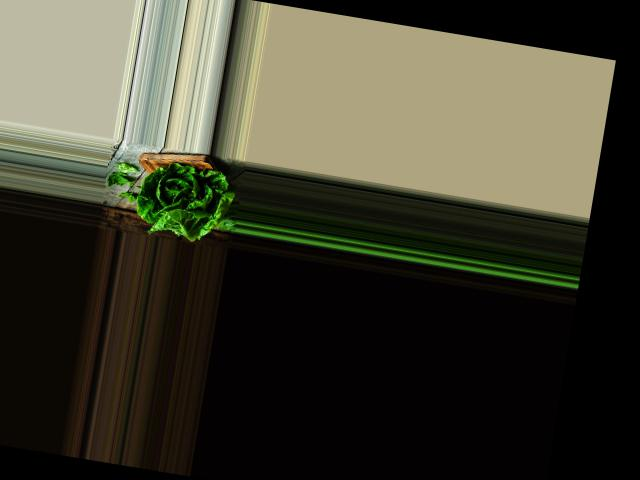lettuce: (136, 154, 240, 245)
